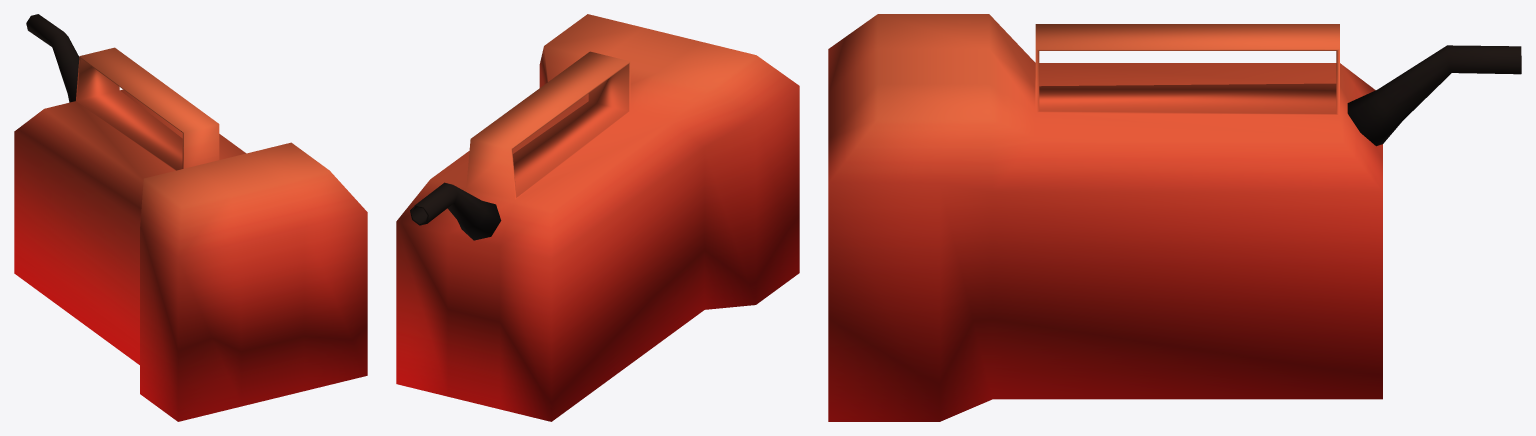
Rendered from GasCan.fbx.
3 renders of one model, left to right at view 1: azimuth 30°, elevation 25°; view 2: azimuth 150°, elevation 25°; view 3: azimuth 270°, elevation 25°, orthographic. The views are drawn at different scales.
Parts seen in each view (by area): view 1: GasCan; view 2: GasCan; view 3: GasCan.
Part boxes in pixels (box(x1,y1,x2,y2)): GasCan: box(14, 14, 367, 421); GasCan: box(396, 14, 799, 421); GasCan: box(828, 14, 1521, 421).
Bounding box in the file's own units: 47.98 × 52.9 × 104.
